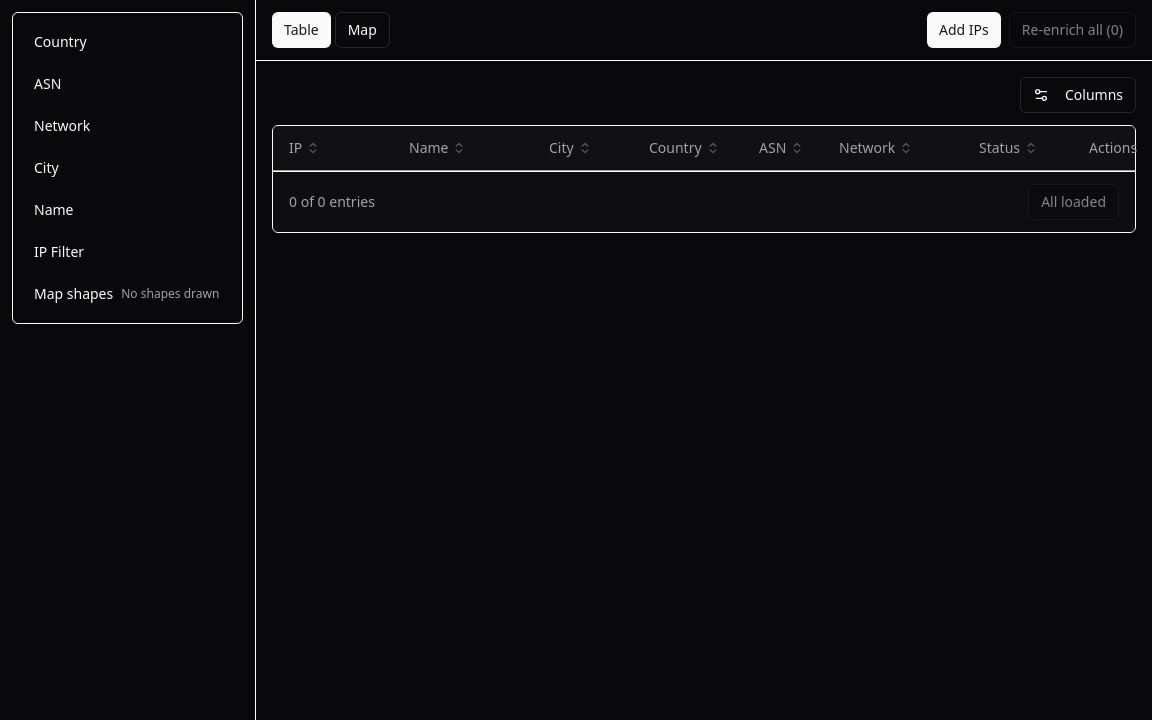
Catalogue page — Add IPs panel › clicking Add IPs opens the paste staging panel
The width and height of the screenshot is (1152, 720).
Expected: the element named "catalogue filters" is shown, [12,12,243,324]
What coordinates should you click on to do the following:
click the button "Add IPs"
I would click on:
 (964, 30)
Its box is [927,12,1001,48].
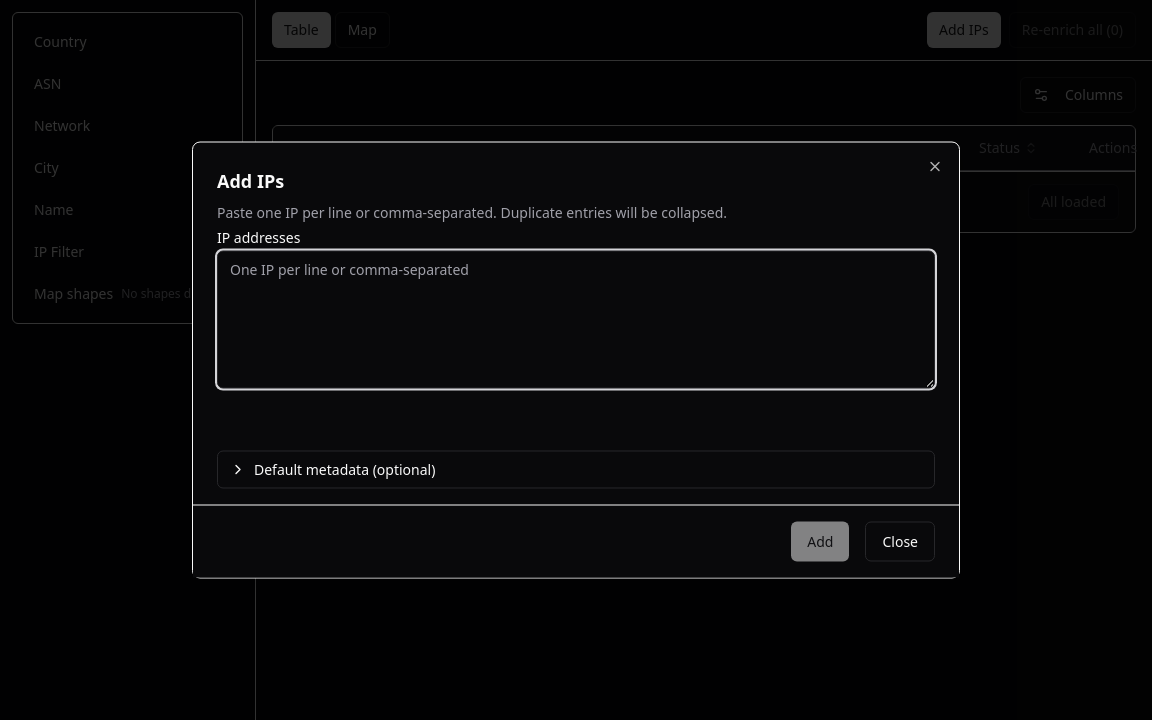
Now the dialog "Add IPs" is shown, box [192,142,960,578]
